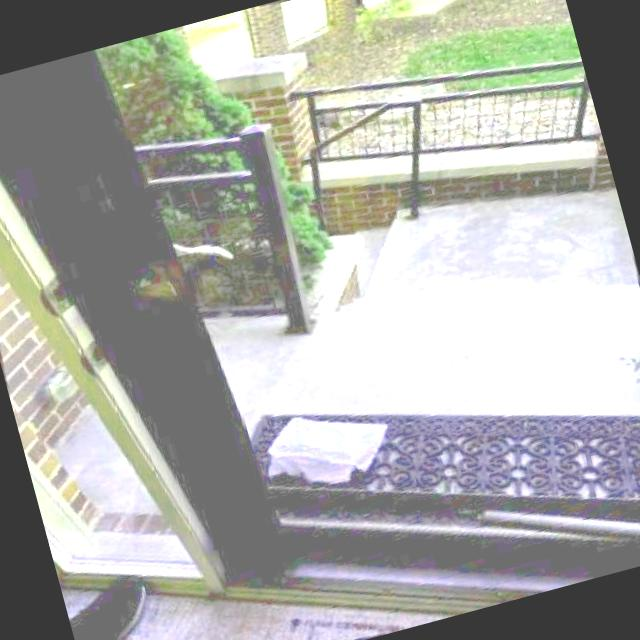Box: (255, 392, 401, 504)
